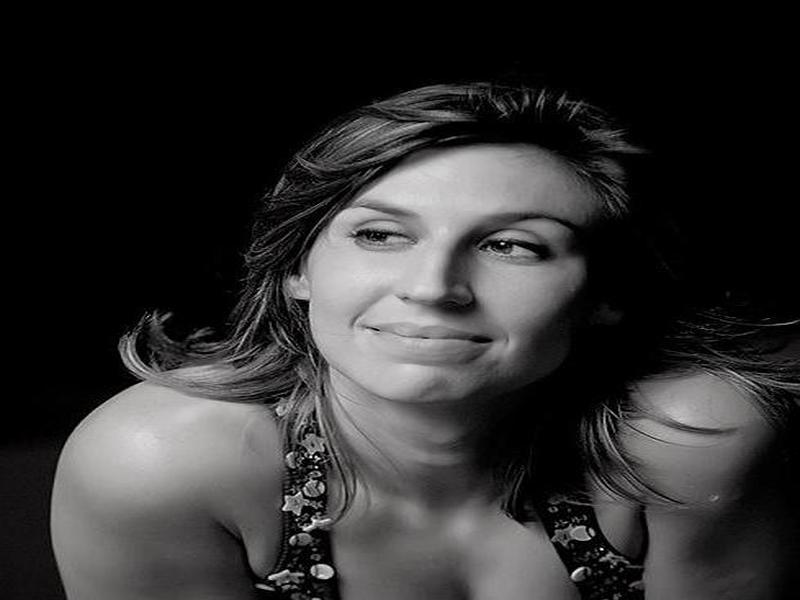person: (45, 79, 794, 600)
